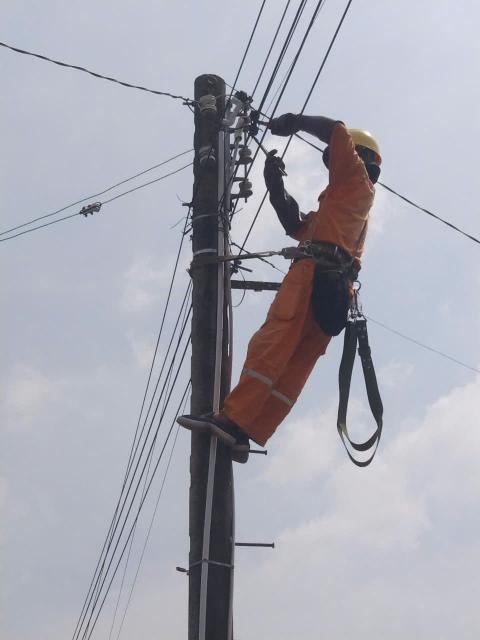gloves: (253, 147, 321, 234), (256, 89, 344, 153)
harness: (291, 232, 368, 288)
helmet: (326, 118, 392, 173)
shoes: (172, 405, 239, 446), (224, 433, 265, 473)
